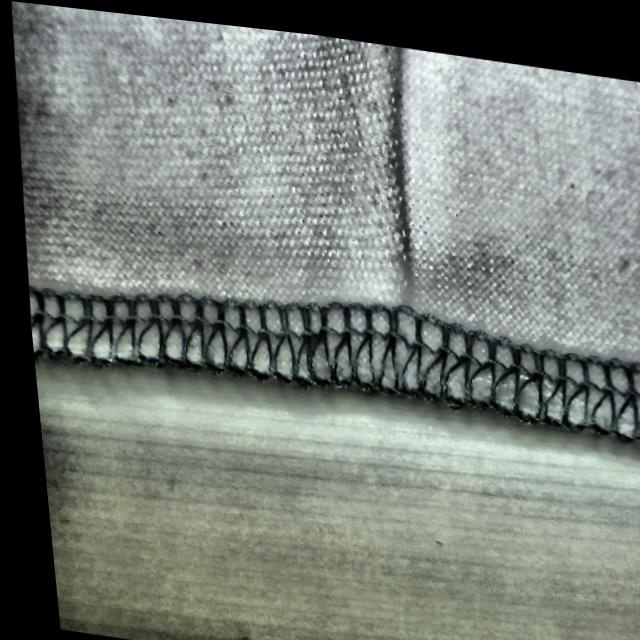seam: (289, 68, 489, 412)
